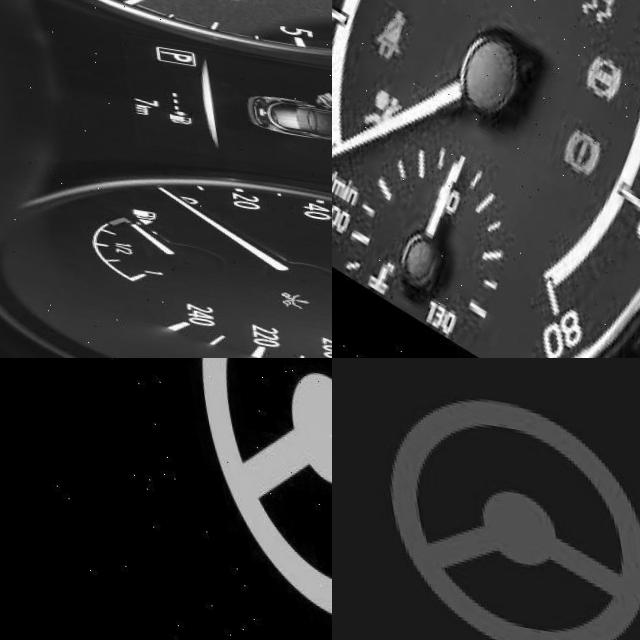Electronic Power Steering: (363, 372, 640, 640)
Electronic Power Steering Warning: (176, 358, 332, 637)
Seat Belt: (358, 3, 405, 59)
